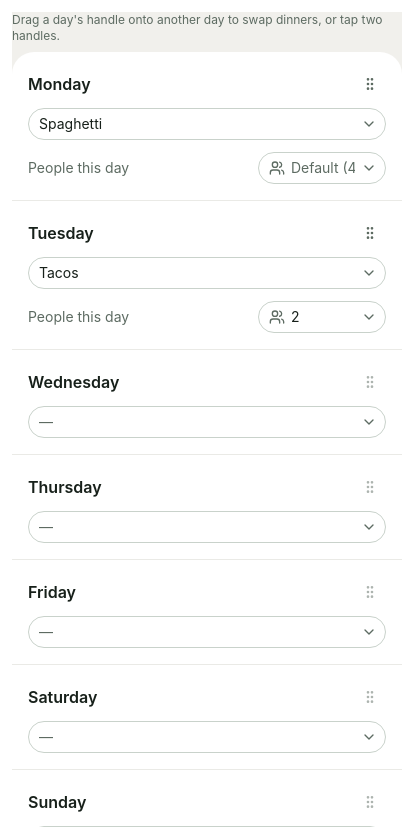
Test: MealPlanWeekAssignments swap › disables handles for days without a recipe until a swap is armed
Expected: the button named "Swap Sunday" is disabled, [354, 786, 386, 818]
Click the button named "Swap Monday" at (370, 84), box [354, 68, 386, 100]
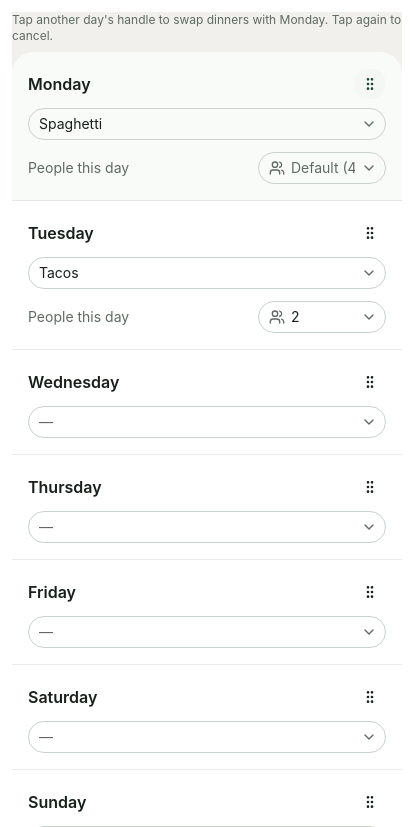
Result: the button named "Swap with Sunday" is enabled at [354, 786, 386, 818]
